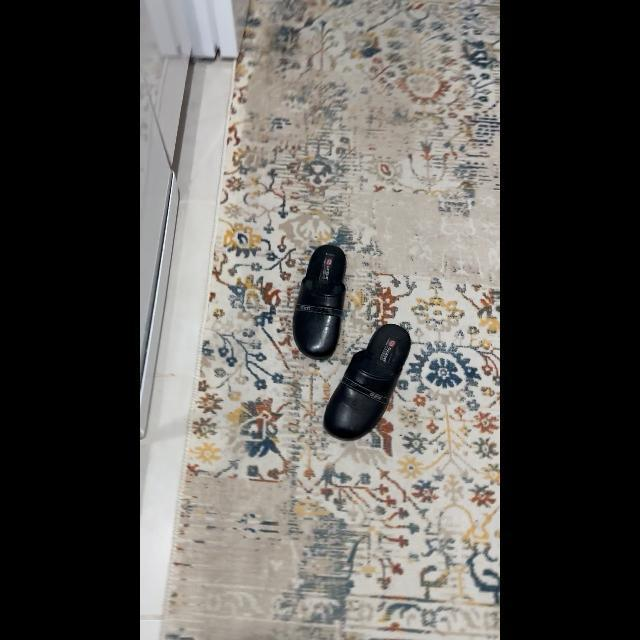slipper: (324, 320, 414, 448), (293, 240, 349, 360)
